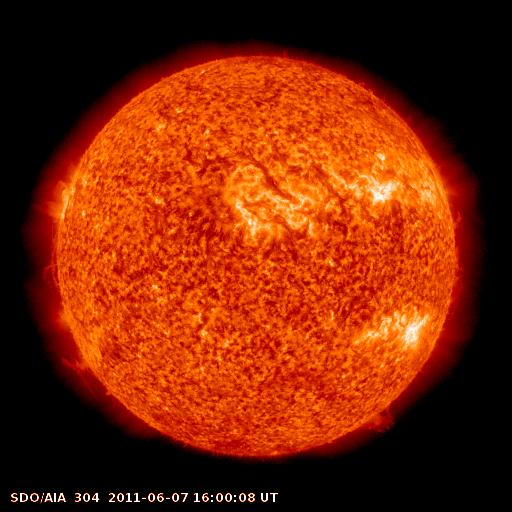prominence: (44, 343, 118, 410), (444, 205, 476, 310), (31, 227, 70, 294), (358, 392, 400, 444)
